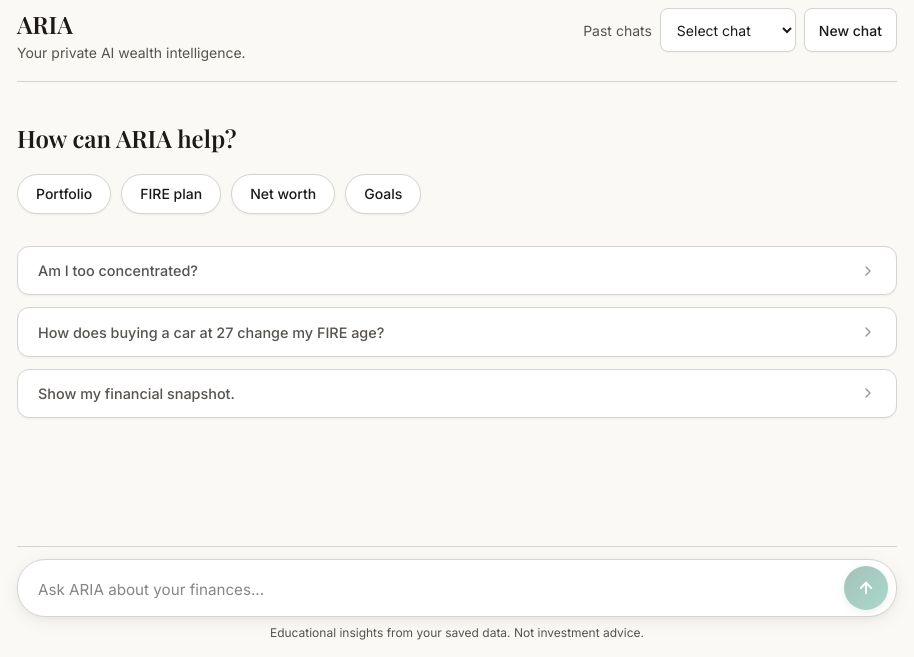
Scenario: Advisory interactive chat UI › restores safe activity, citations, and future proposals from retained history
The image size is (914, 657).
Check: the button "New chat" is shown, box x1=804 y1=8 x2=897 y2=52
Select "Previous Plan" in the dropdown labelled "Past chats" at x=728, y=30, box x1=660 y1=8 x2=796 y2=52
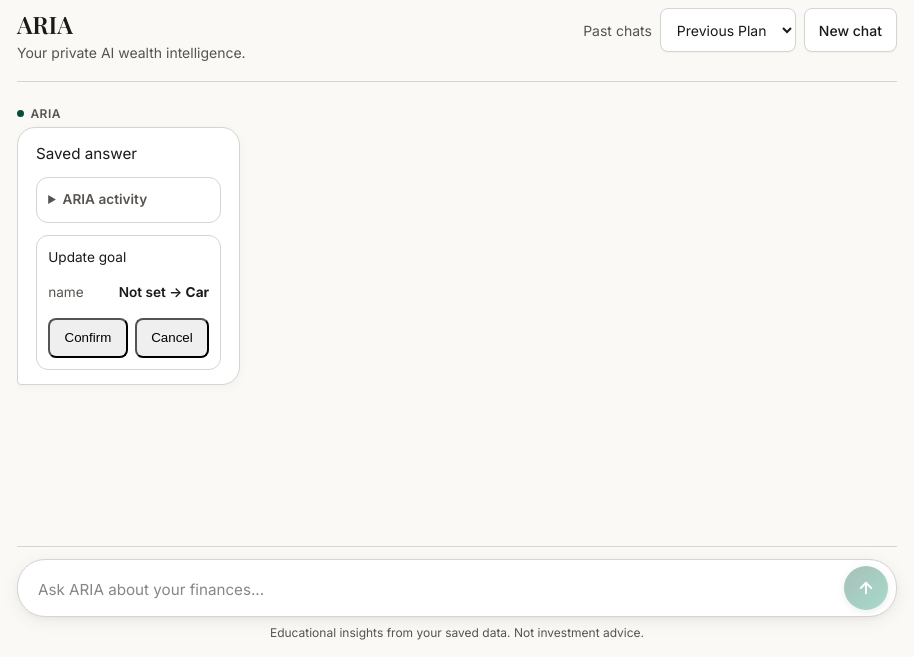
Check: the heading "ARIA activity" is shown, box x1=63 y1=191 x2=147 y2=207
Check: the text "Saved answer" is shown, box x1=36 y1=144 x2=137 y2=163
Check: the button "Confirm" is shown, box x1=48 y1=318 x2=128 y2=358
